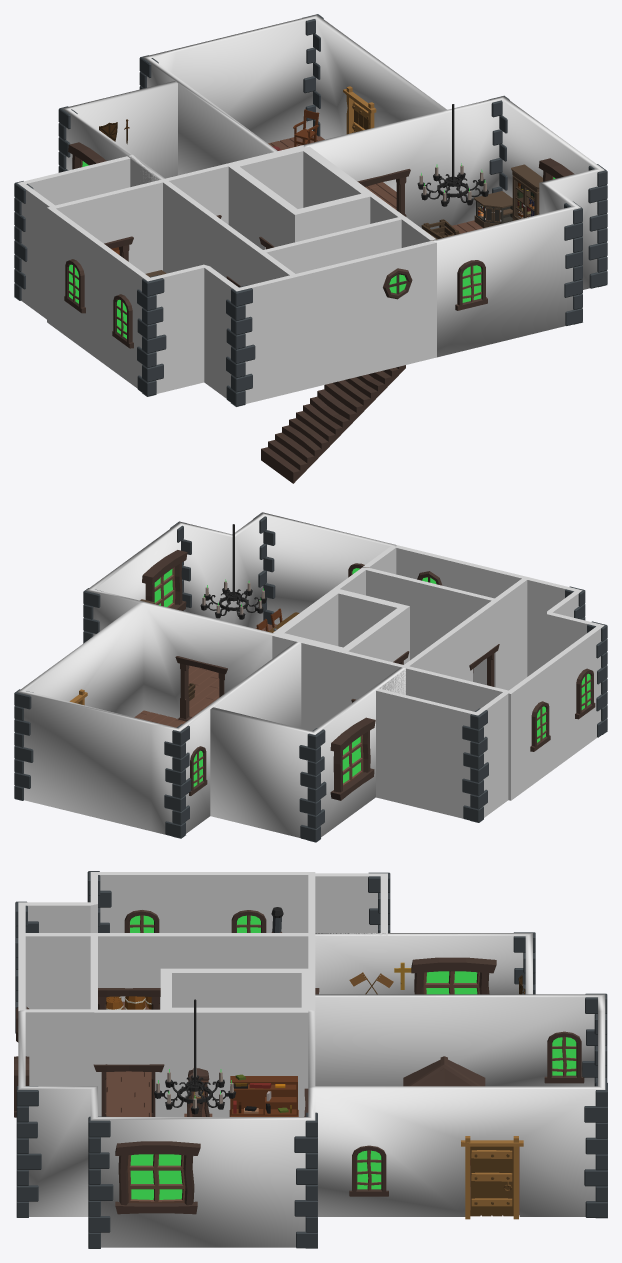
File: house.glb
3 views of the same model, one above another, from view 1: azimuth 30°, elevation 25°; view 2: azimuth 150°, elevation 25°; view 3: azimuth 270°, elevation 25° (orthographic). The views are drawn at different scales.
Visible parts, largest first — view 1: Walls -col, Stairs.001, BrickCorner.008, BrickCorner.009, BrickCorner.001, BrickCorner.002, Chandelier.001, SM_Bookcase_03.001, ArchWindow.007, BrickCorner.007, SM_Bookcase_02.001, BrickCorner.003 (+9 smaller); view 2: Walls -col, SquareWindow.004, BrickCorner.006, BrickCorner.005, BrickCorner.007, SquareWindow.002, BrickCorner.003, Chandelier.001, BrickCorner.008, WideDoorFrame.001, BrickCorner.002, ArchWindow.001 (+6 smaller); view 3: Walls -col, SquareWindow.001, HiddenPassage -convcol, door.002, SquareWindow.003, Cabinet1.001, BrickCorner.003, BrickCorner.001, BrickCorner.002, BrickCorner.004, ArchWindow.009, Chandelier.001 (+14 smaller).
Boxes of the visible parts, x1,y1,x2,y2 form: Walls -col: (17,14,604,403); Stairs.001: (261,365,405,483); BrickCorner.008: (137,275,166,396); BrickCorner.009: (226,285,255,406); BrickCorner.001: (588,164,607,288); BrickCorner.002: (564,201,582,325); Chandelier.001: (417,104,488,206); SM_Bookcase_03.001: (511,164,542,220); ArchWindow.007: (455,260,487,310); BrickCorner.007: (14,181,33,300); SM_Bookcase_02.001: (473,191,512,227); BrickCorner.003: (302,14,323,136); Walls -col: (17,512,604,837); SquareWindow.004: (330,717,375,800); BrickCorner.006: (299,728,326,842); BrickCorner.005: (164,724,191,838); BrickCorner.007: (462,708,488,822); SquareWindow.002: (142,550,187,610); BrickCorner.003: (14,689,33,800); Chandelier.001: (200,524,266,619); BrickCorner.008: (587,621,607,737); WideDoorFrame.001: (175,656,227,721); BrickCorner.002: (253,512,275,624); ArchWindow.001: (530,701,550,751); Walls -col: (18,872,605,1247); SquareWindow.001: (115,1141,200,1214); HiddenPassage -convcol: (25,1009,94,1086); door.002: (461,1136,523,1219); SquareWindow.003: (411,957,496,994); Cabinet1.001: (229,1074,298,1116); BrickCorner.003: (584,1082,607,1218); BrickCorner.001: (88,1116,113,1248); BrickCorner.002: (16,1086,41,1217); BrickCorner.004: (294,1112,317,1248); ArchWindow.009: (544,1031,584,1083); Chandelier.001: (154,999,235,1114).
Size of the model in its own units: 16.63 by 9.01 by 16.41.
86 materials, 3 textured.
